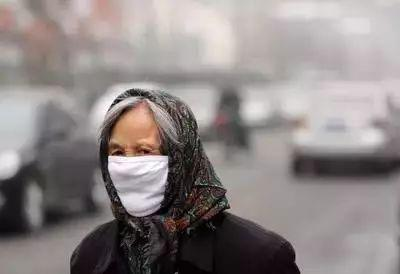OK: (101, 126, 176, 219)
